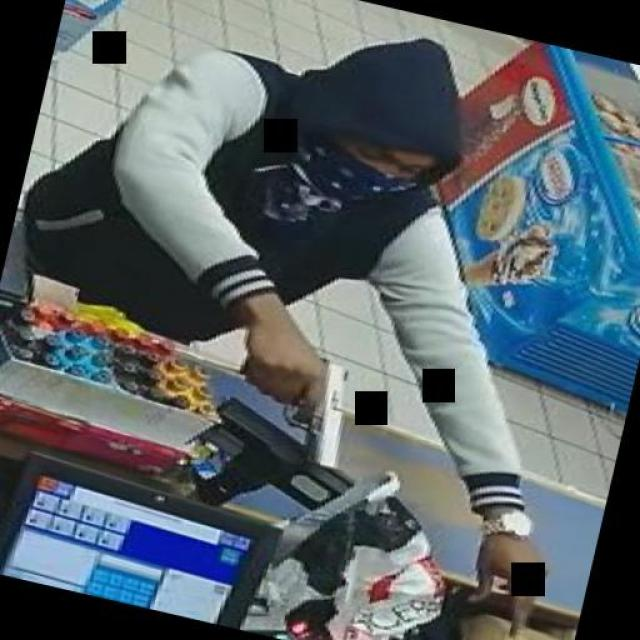gun: (224, 332, 370, 472)
